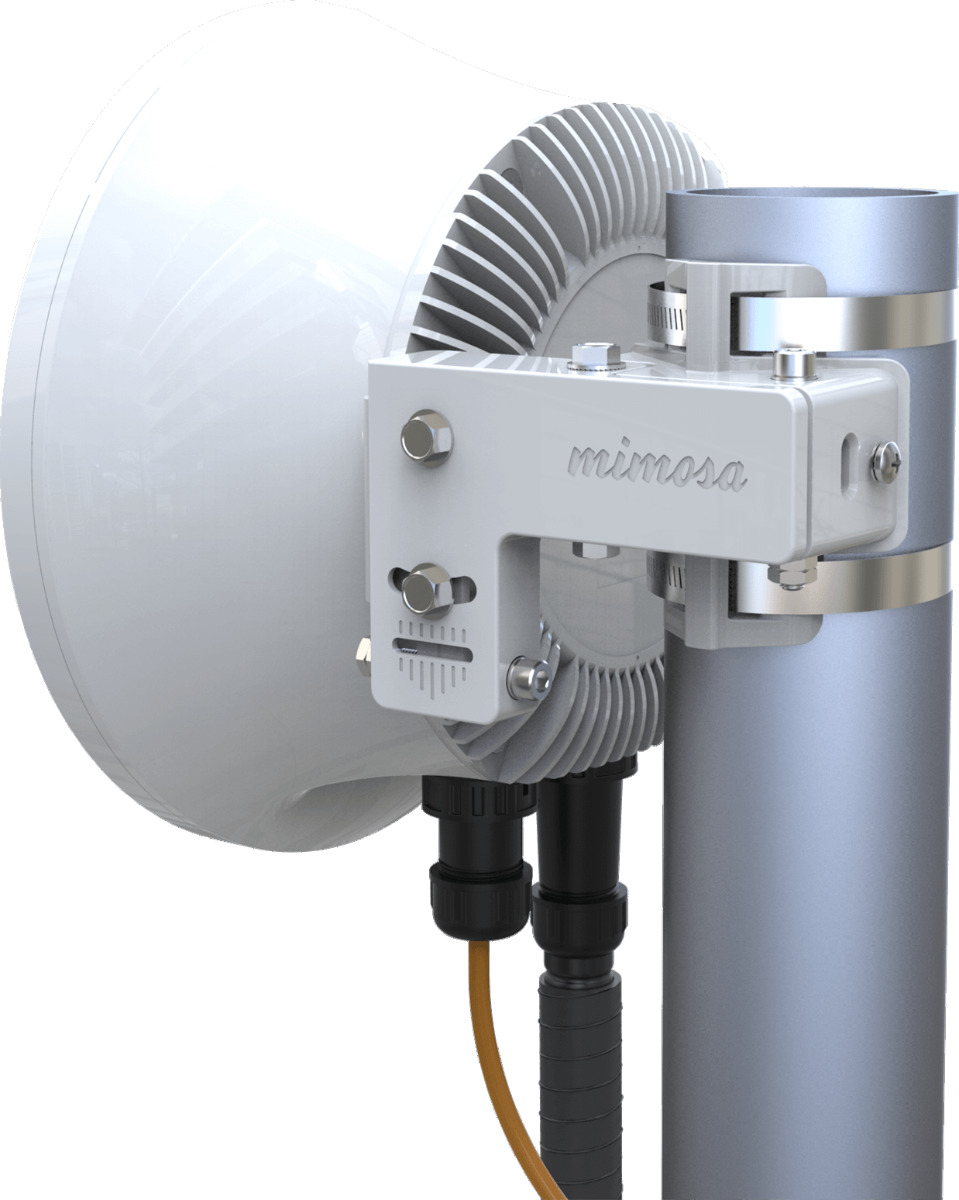ba: (22, 16, 811, 958)
